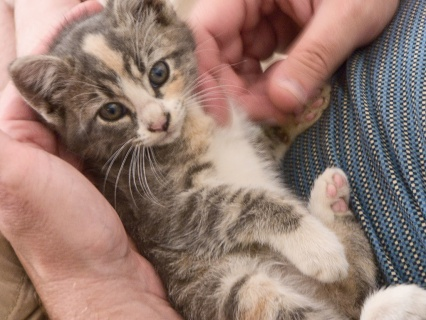Cat: (7, 0, 426, 319)
